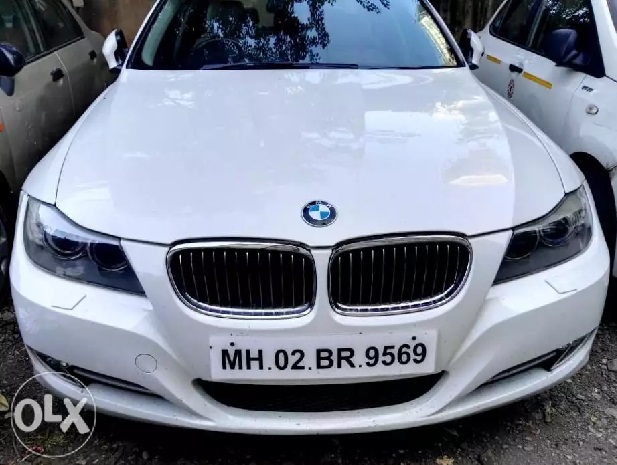licenseplate: (208, 322, 441, 383)
